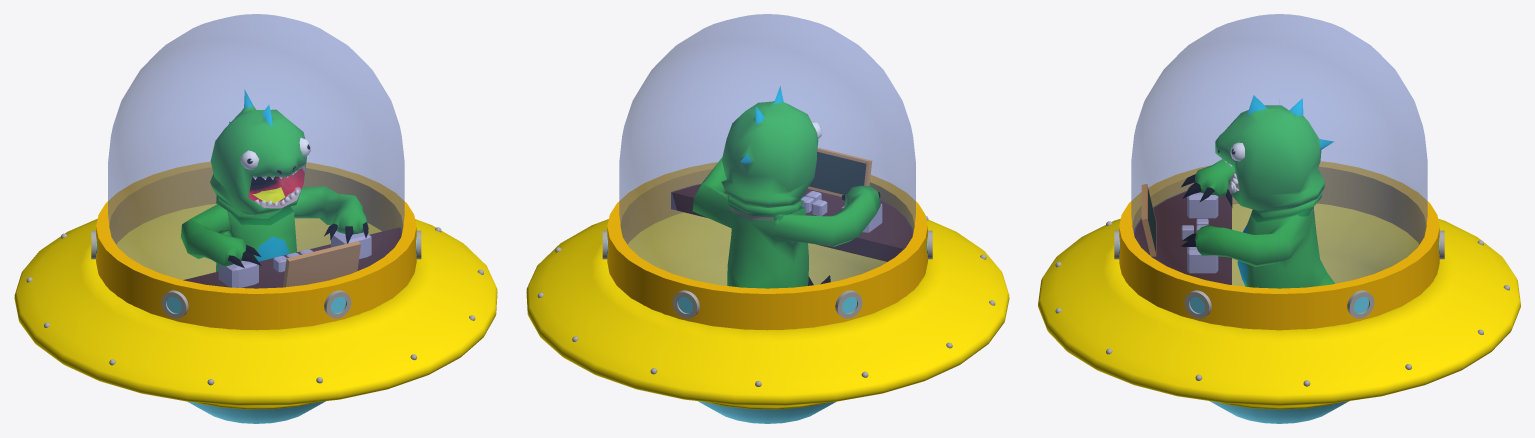
The model's file is AgentModel.fbx.
3 views of the same model, side by side, from view 1: azimuth 30°, elevation 25°; view 2: azimuth 150°, elevation 25°; view 3: azimuth 270°, elevation 25° (orthographic).
Parts seen in each view (by area): view 1: UfoBody, Glass, Alian, Table, Sphere; view 2: UfoBody, Glass, Alian, Table, Sphere; view 3: UfoBody, Glass, Alian, Table, Sphere.
Boxes of the visible parts, x1,y1,x2,y2 form: UfoBody: (14, 162, 497, 409); Glass: (108, 14, 404, 288); Alian: (181, 89, 368, 271); Table: (183, 227, 401, 288); Sphere: (188, 401, 325, 423); UfoBody: (526, 162, 1009, 409); Glass: (619, 14, 915, 288); Alian: (692, 86, 880, 288); Table: (671, 147, 913, 261); Sphere: (698, 401, 835, 423); UfoBody: (1038, 161, 1520, 409); Glass: (1131, 14, 1427, 288); Alian: (1181, 95, 1334, 288); Table: (1133, 184, 1231, 284); Sphere: (1209, 401, 1349, 423).
Size of the model in its own units: 2262 by 1996 by 2266.
